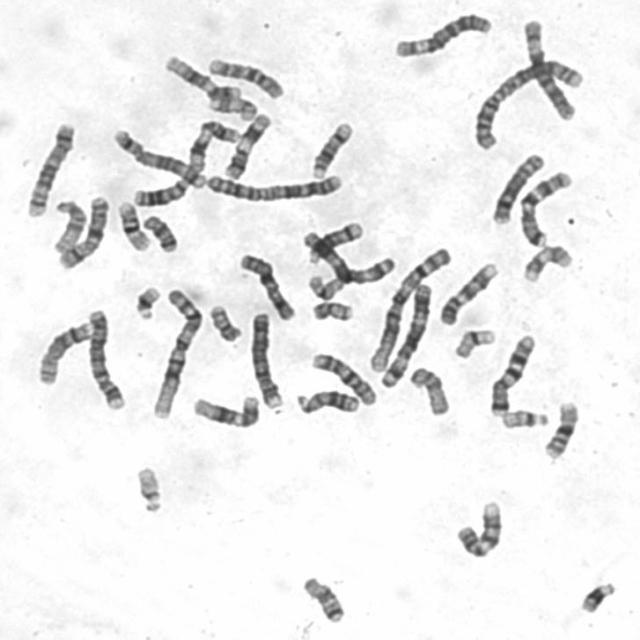A1: (364, 243, 454, 376), (147, 283, 205, 421)
A2: (468, 56, 584, 151), (199, 166, 346, 203)
A3: (376, 278, 435, 390), (297, 227, 398, 286)
B4: (82, 303, 128, 412), (245, 306, 285, 411)
B5: (108, 125, 209, 190), (21, 116, 78, 218)
C10: (306, 348, 378, 407), (202, 53, 286, 100)
C11: (218, 109, 272, 181), (184, 116, 241, 172)
C12: (159, 50, 242, 102), (188, 389, 262, 429)
C6: (518, 12, 578, 121), (388, 8, 493, 60)
C7: (514, 165, 576, 249), (484, 330, 538, 417)
C8: (487, 147, 547, 227), (32, 316, 93, 387)
C9: (435, 257, 500, 327), (452, 494, 504, 559)
D13: (291, 386, 362, 416), (130, 178, 194, 210)
D14: (303, 217, 366, 266), (306, 117, 355, 180)
D15: (405, 362, 452, 417), (47, 195, 88, 256)
E16: (539, 395, 581, 461), (113, 196, 151, 252)
E17: (518, 240, 574, 285), (203, 93, 259, 121)
E18: (297, 571, 347, 624), (137, 209, 180, 254)
F19: (449, 324, 497, 360), (304, 270, 347, 302)
F20: (203, 299, 243, 344), (307, 296, 355, 322)
G21: (574, 575, 618, 615), (129, 282, 162, 322)
G22: (130, 461, 164, 515), (497, 404, 551, 430)
X: (52, 191, 111, 271), (234, 248, 297, 322)
